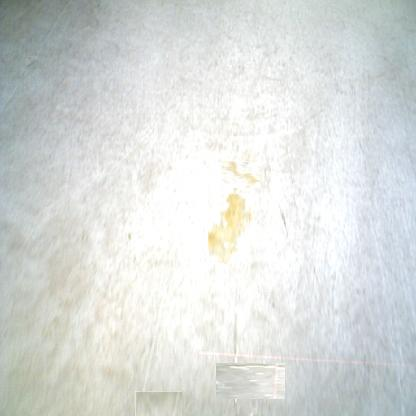liquid: (208, 193, 250, 262), (224, 354, 276, 408), (135, 391, 182, 416), (225, 158, 257, 190)
mark: (26, 57, 38, 69), (280, 209, 286, 227), (127, 231, 132, 240)
